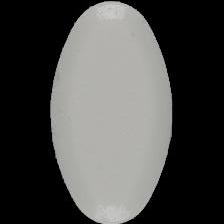68382-059: (0, 0, 224, 224)
